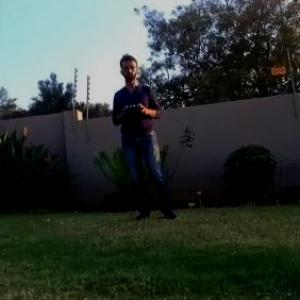follow: (109, 46, 182, 220)
